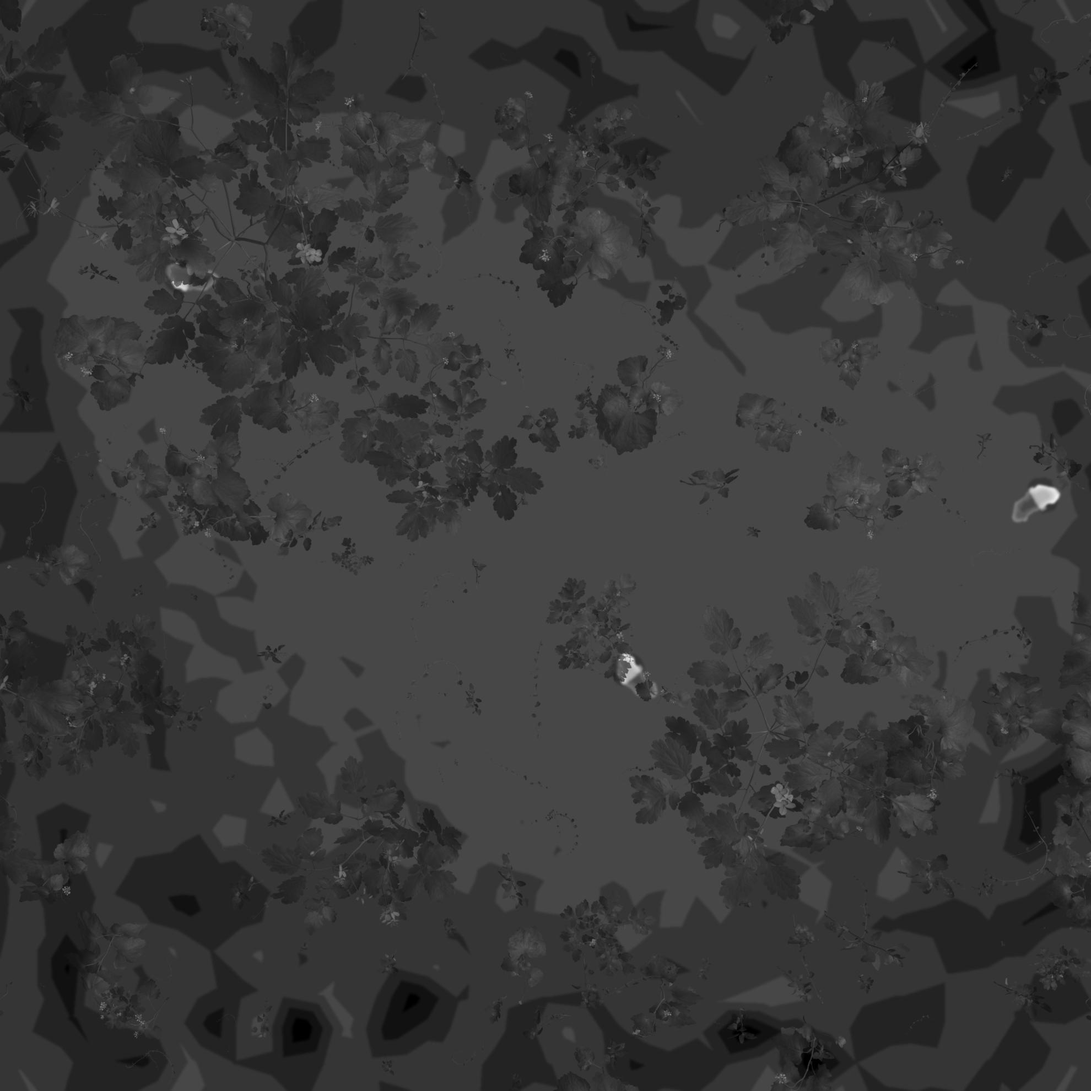landmine: (1008, 482, 1066, 530), (160, 257, 222, 300), (613, 651, 662, 704)
